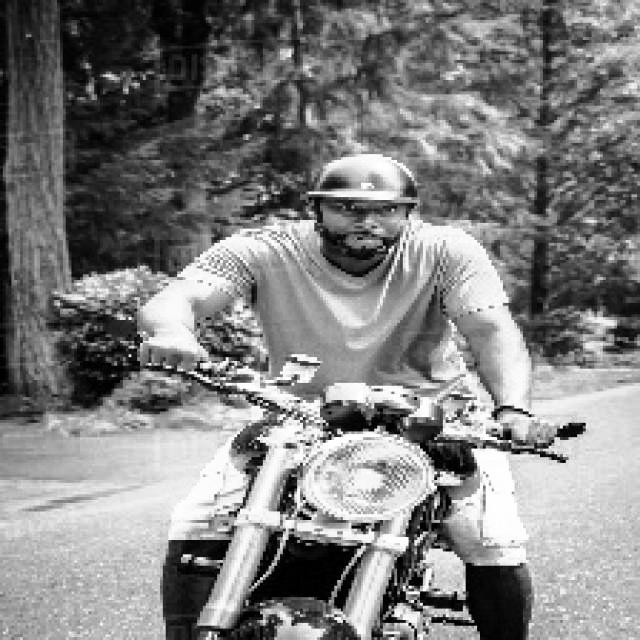Bike: (182, 368, 498, 640)
